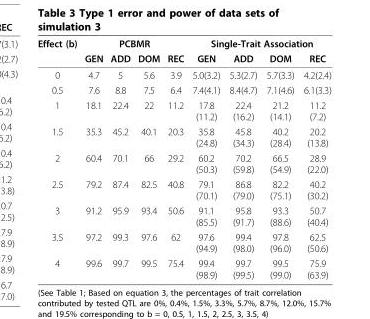table: (36, 37, 330, 279)
table column: (36, 37, 80, 279), (187, 37, 224, 279), (224, 37, 261, 279), (261, 37, 298, 279), (298, 37, 330, 279), (133, 37, 163, 279), (106, 37, 133, 279), (80, 37, 106, 279), (163, 37, 187, 279)
table column header: (36, 37, 330, 66)
table row: (36, 123, 330, 150), (36, 202, 330, 229), (36, 97, 330, 123), (36, 150, 330, 176), (36, 176, 330, 202), (36, 229, 330, 255), (36, 255, 330, 279), (36, 50, 330, 66), (36, 66, 330, 82), (36, 82, 330, 97), (36, 37, 330, 50)
table spanning cell: (187, 37, 330, 50), (80, 37, 187, 50), (36, 37, 80, 66)
